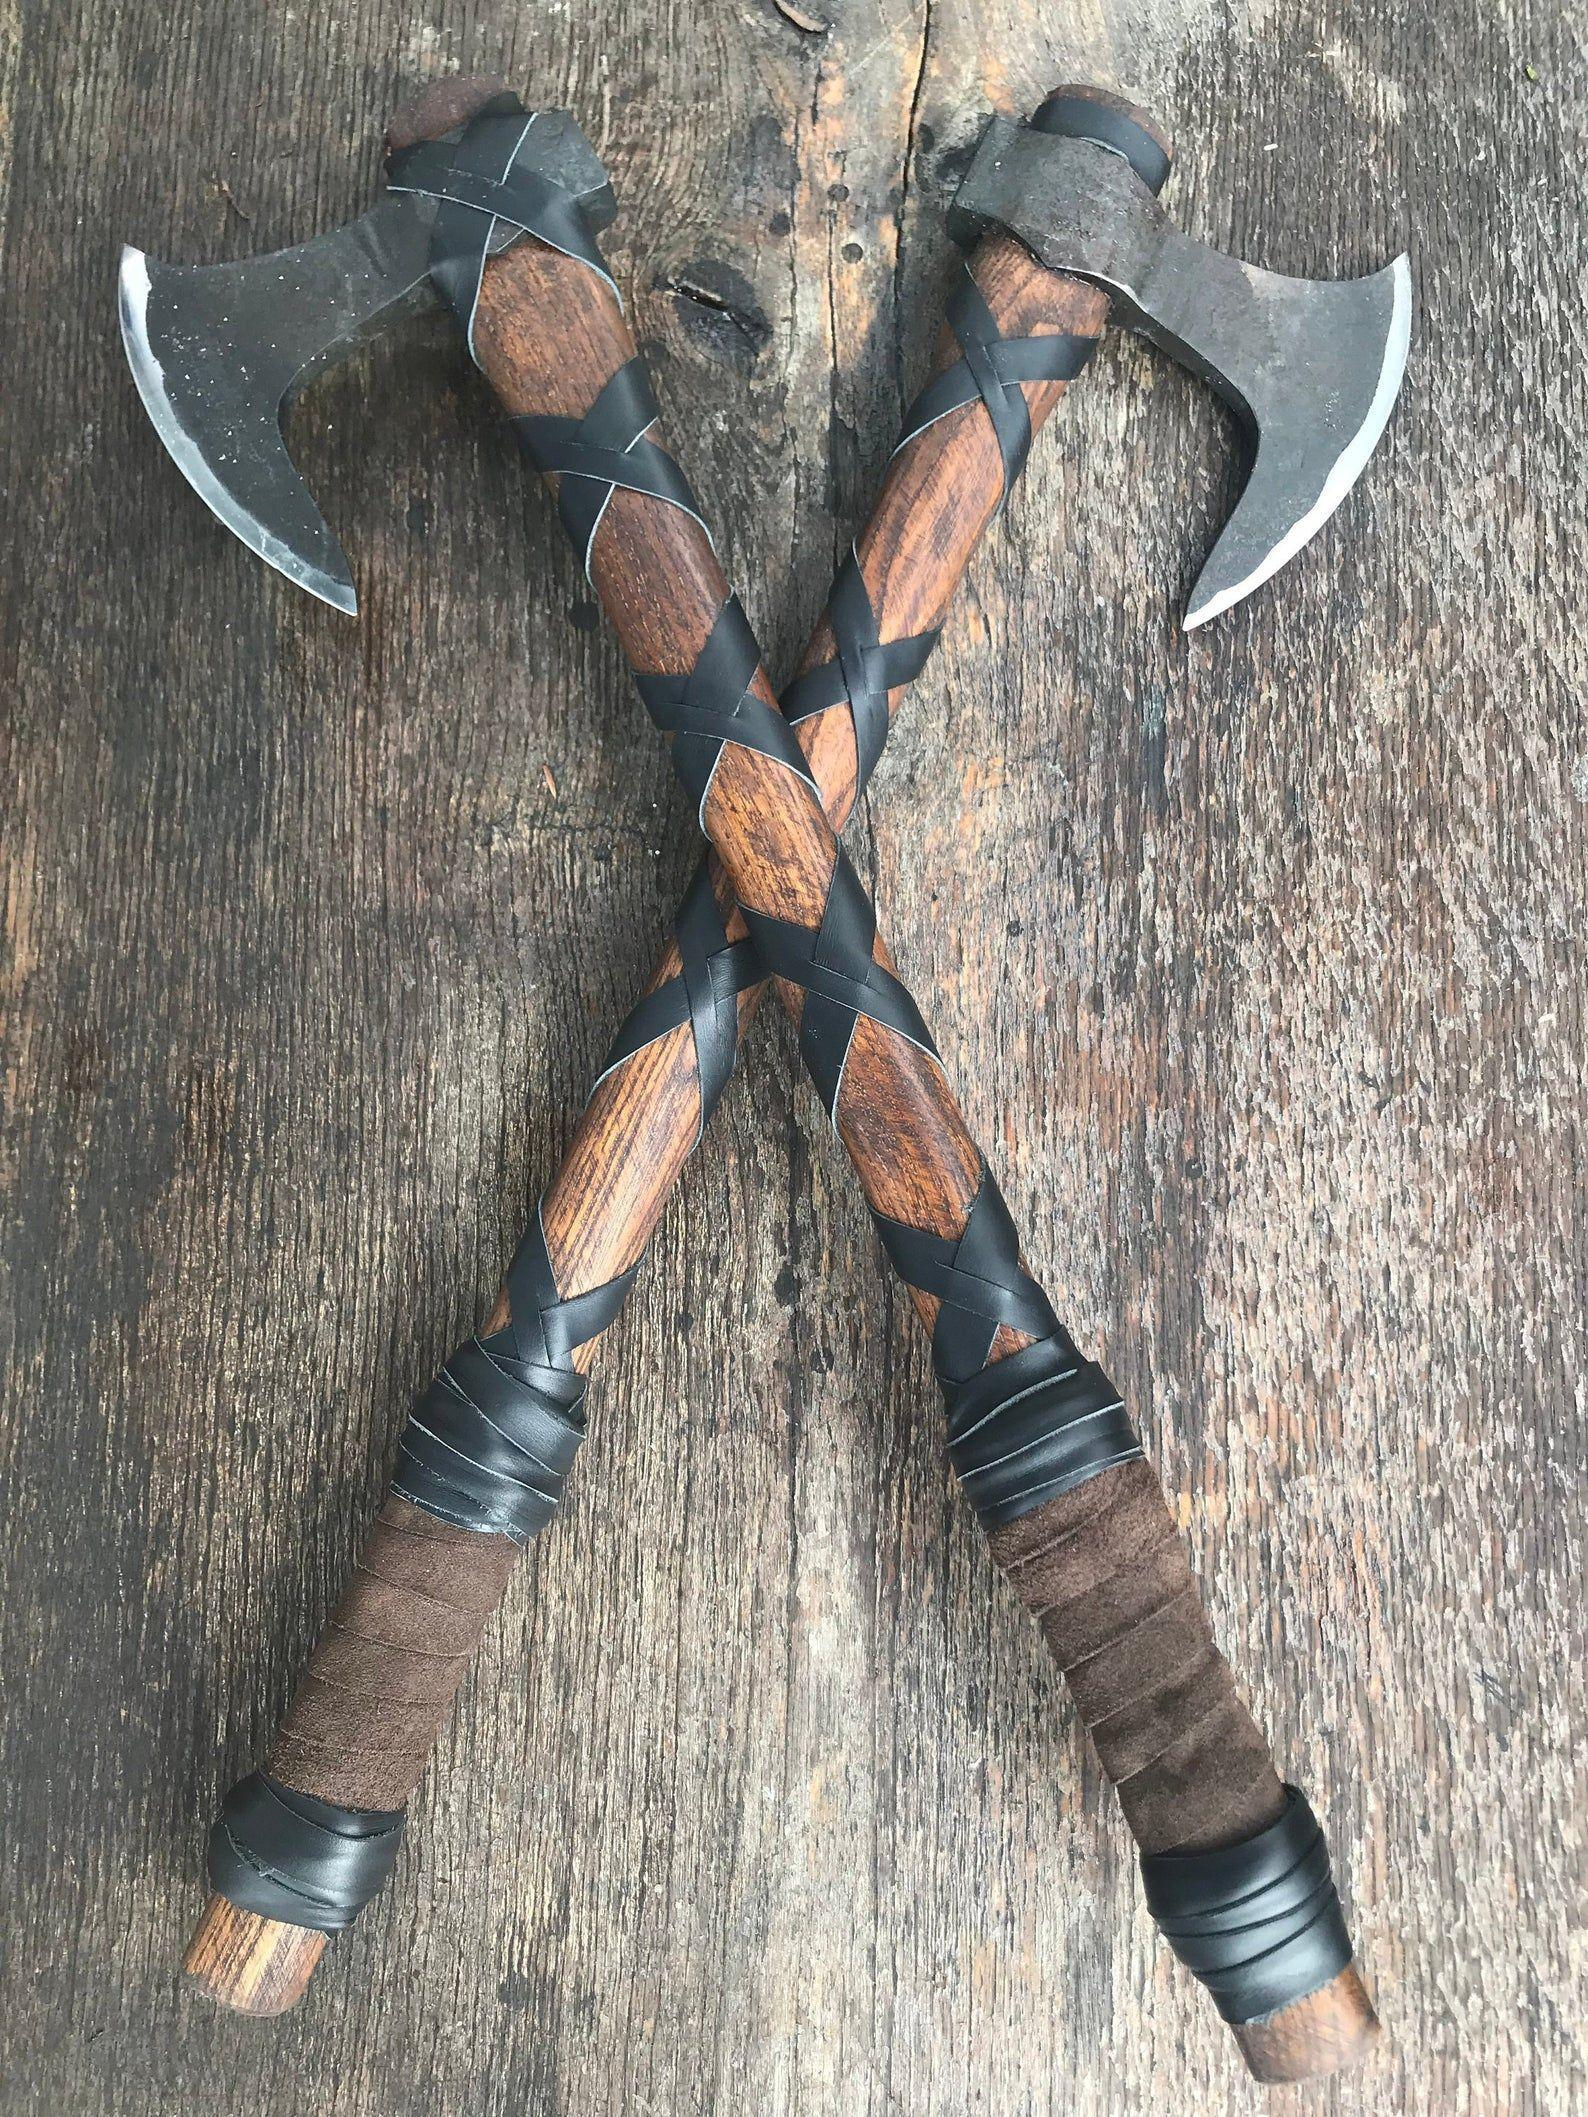machado: (784, 85, 1411, 824), (120, 88, 792, 771)
